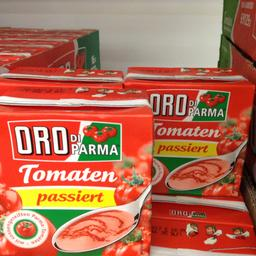tomato_sauce: (0, 84, 152, 254), (124, 62, 254, 194)
